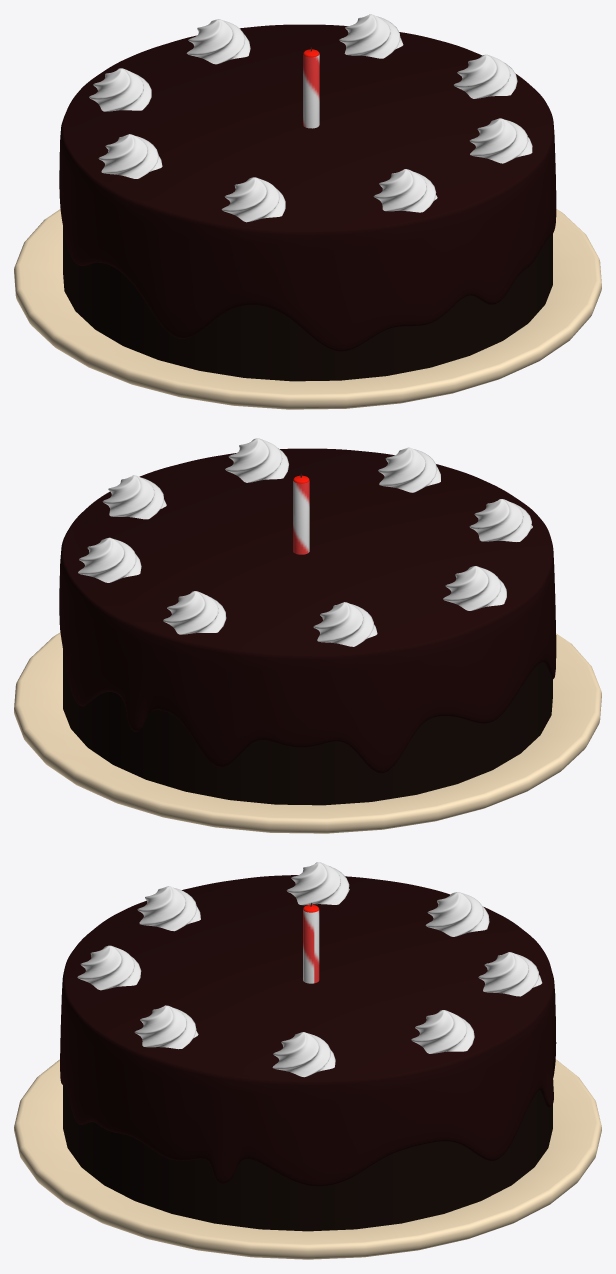
Rendered from CakeBlenderQuintero.fbx.
3 views of the same model, one above another, from view 1: azimuth 30°, elevation 25°; view 2: azimuth 150°, elevation 25°; view 3: azimuth 270°, elevation 25° (orthographic).
Parts seen in each view (by area): view 1: Birthday Cake; view 2: Birthday Cake; view 3: Birthday Cake.
Boxes of the visible parts, bbox=[...] form: Birthday Cake: bbox=[14, 14, 601, 409]; Birthday Cake: bbox=[14, 438, 601, 833]; Birthday Cake: bbox=[14, 862, 601, 1259].
Size of the model in its own units: 2159 by 1021 by 2159.
Materials: 7 (1 with a texture image).
